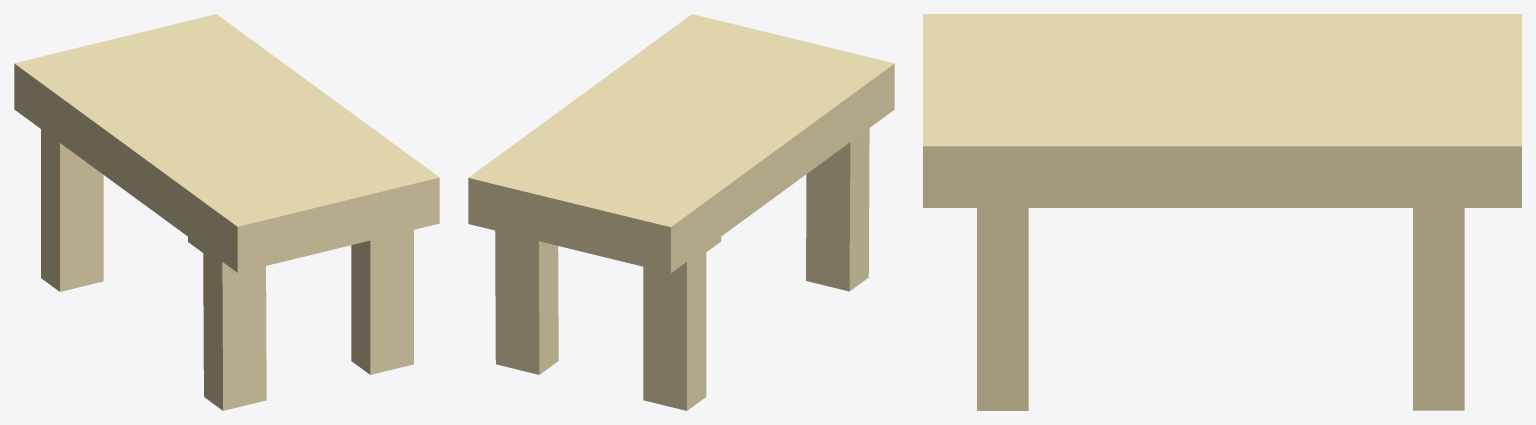
The model's file is F_Stool_01.fbx.
3 views of the same model, side by side, from view 1: azimuth 30°, elevation 25°; view 2: azimuth 150°, elevation 25°; view 3: azimuth 270°, elevation 25° (orthographic). The views are drawn at different scales.
Visible parts, largest first — view 1: F_Stool_01; view 2: F_Stool_01; view 3: F_Stool_01.
Part boxes in pixels (box(x1,y1,x2,y2)): F_Stool_01: box(14, 14, 439, 410); F_Stool_01: box(468, 14, 894, 410); F_Stool_01: box(923, 14, 1521, 410).
Size of the model in its own units: 67.49 by 63.87 by 129.
